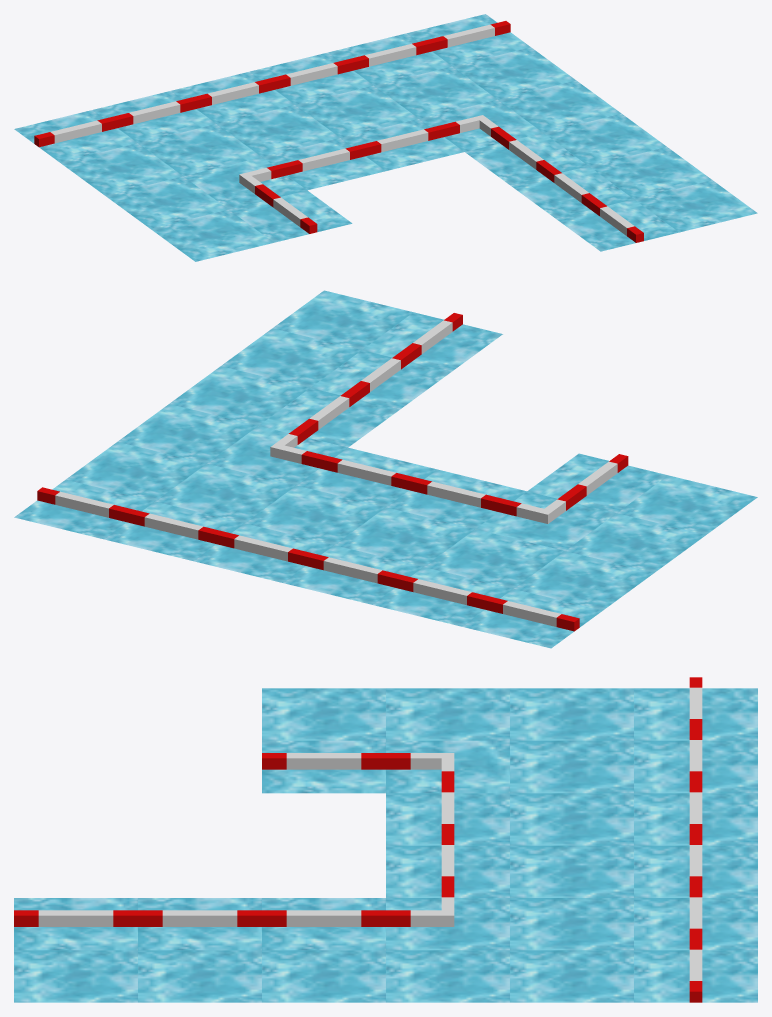
Rendered from Ground17-I.fbx.
3 views of the same model, one above another, from view 1: azimuth 30°, elevation 25°; view 2: azimuth 150°, elevation 25°; view 3: azimuth 270°, elevation 25° (orthographic). The views are drawn at different scales.
Visible parts, largest first — view 1: pCube2721; view 2: pCube2721; view 3: pCube2721.
Part boxes in pixels (left/top/right/bottom): pCube2721: left=14, top=14, right=757, bottom=261; pCube2721: left=14, top=290, right=757, bottom=648; pCube2721: left=14, top=677, right=757, bottom=1002.
Size of the model in its own units: 300 by 5 by 300.
3 materials, 1 textured.
